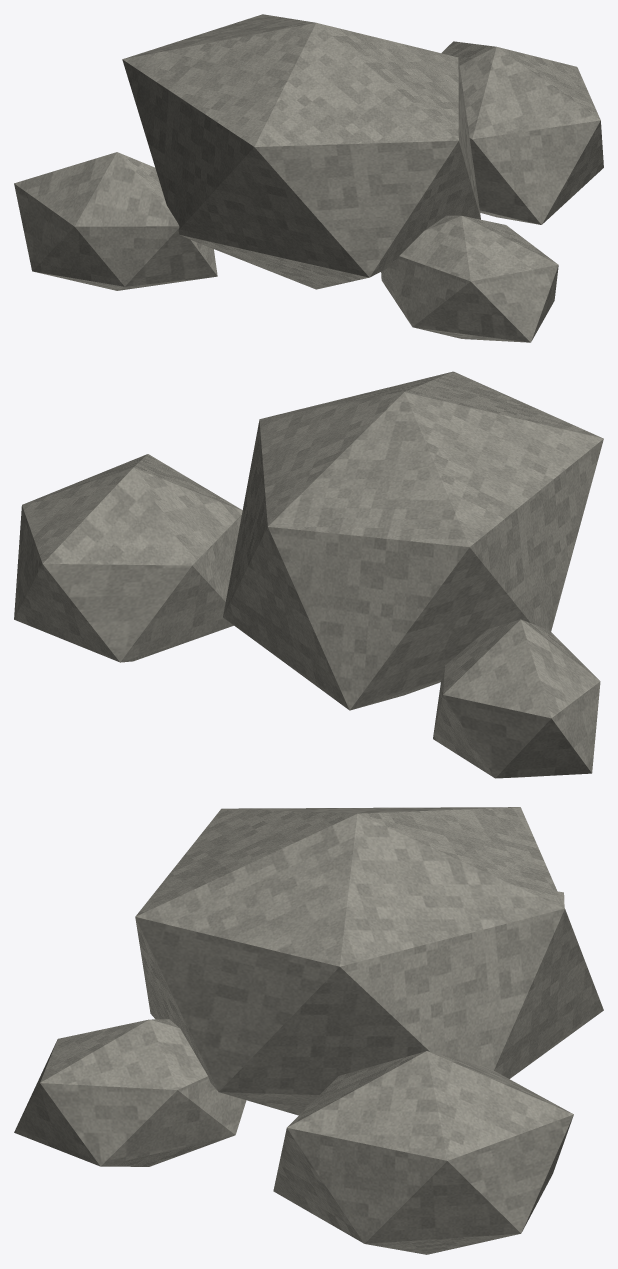
The picture shows the model from 3 angles, top to bottom: view 1: azimuth 30°, elevation 25°; view 2: azimuth 150°, elevation 25°; view 3: azimuth 270°, elevation 25°; orthographic projection. The views are drawn at different scales.
Parts seen in each view (by area): view 1: ST2-T04_Mesh; view 2: ST2-T04_Mesh; view 3: ST2-T04_Mesh.
Part boxes in pixels (left/top/right/bottom): ST2-T04_Mesh: left=14, top=14, right=603, bottom=342; ST2-T04_Mesh: left=14, top=371, right=603, bottom=778; ST2-T04_Mesh: left=14, top=807, right=603, bottom=1254.
Size of the model in its own units: 3.13 by 1.52 by 2.55.
